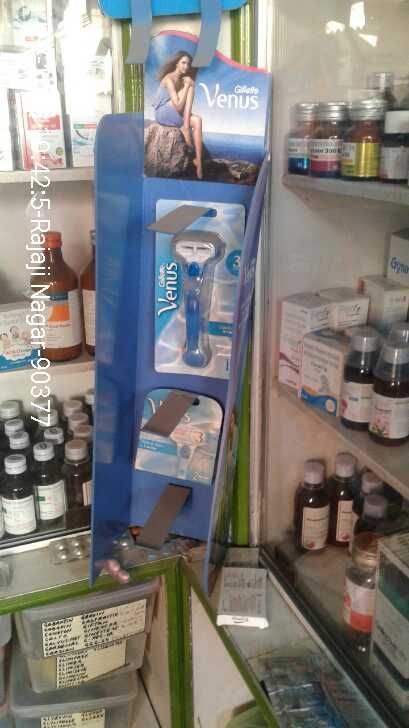venus: (149, 196, 234, 374), (136, 394, 225, 485)
